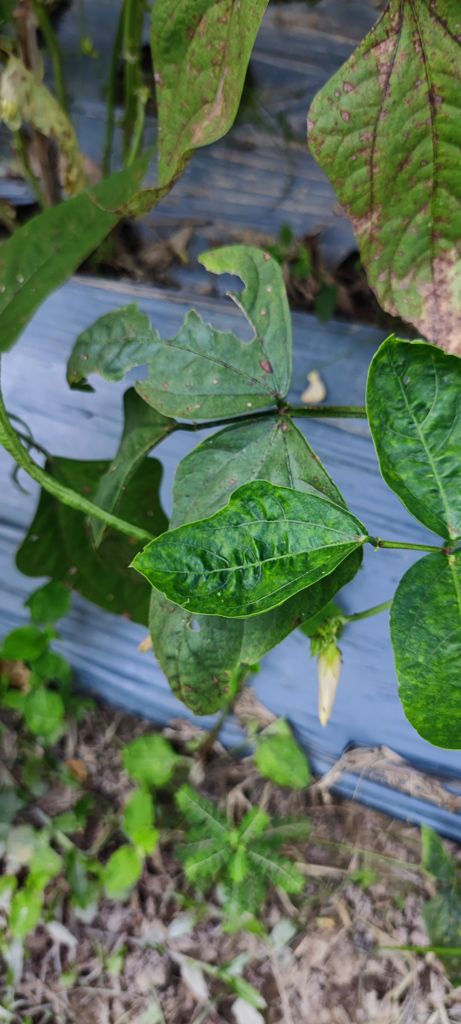Rust: (302, 2, 459, 370), (83, 3, 271, 216), (3, 44, 91, 211)
